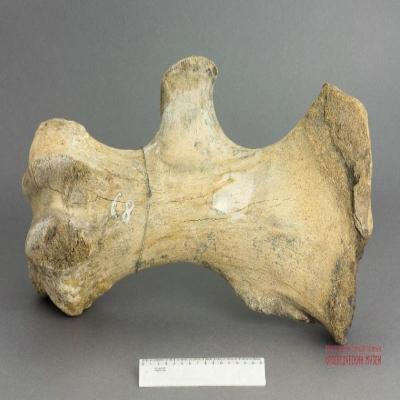natural_science_collection: (20, 55, 374, 345)
